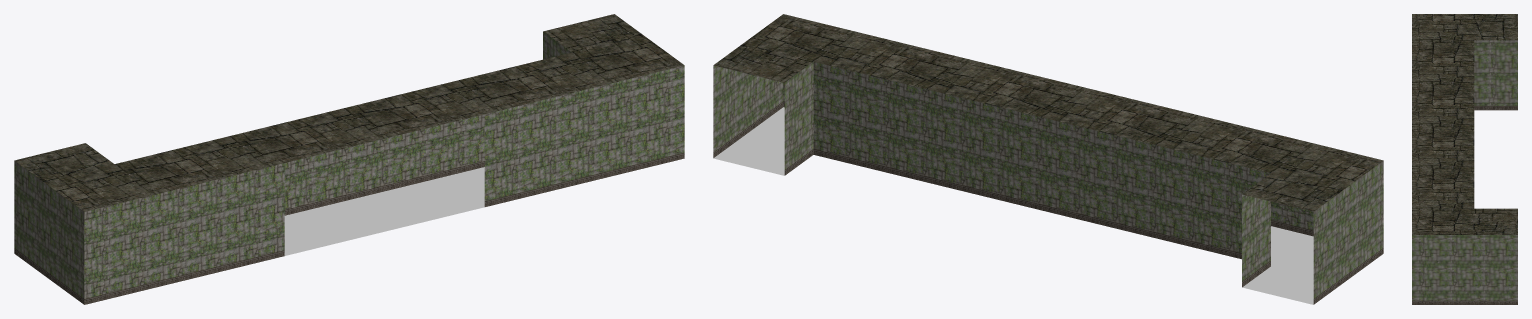
Rendered from thm_yavn_palace_woolamander_r1_entrance_mesh.fbx.
The picture shows the model from 3 angles, left to right: view 1: azimuth 30°, elevation 25°; view 2: azimuth 150°, elevation 25°; view 3: azimuth 270°, elevation 25°; orthographic projection. The views are drawn at different scales.
Visible parts, largest first — view 1: mesh_node; view 2: mesh_node; view 3: mesh_node.
Boxes of the visible parts, x1=… form: mesh_node: x1=14, y1=14, x2=684, y2=304; mesh_node: x1=713, y1=14, x2=1383, y2=304; mesh_node: x1=1412, y1=14, x2=1517, y2=304.
Size of the model in its own units: 42 by 6.22 by 8.51.
